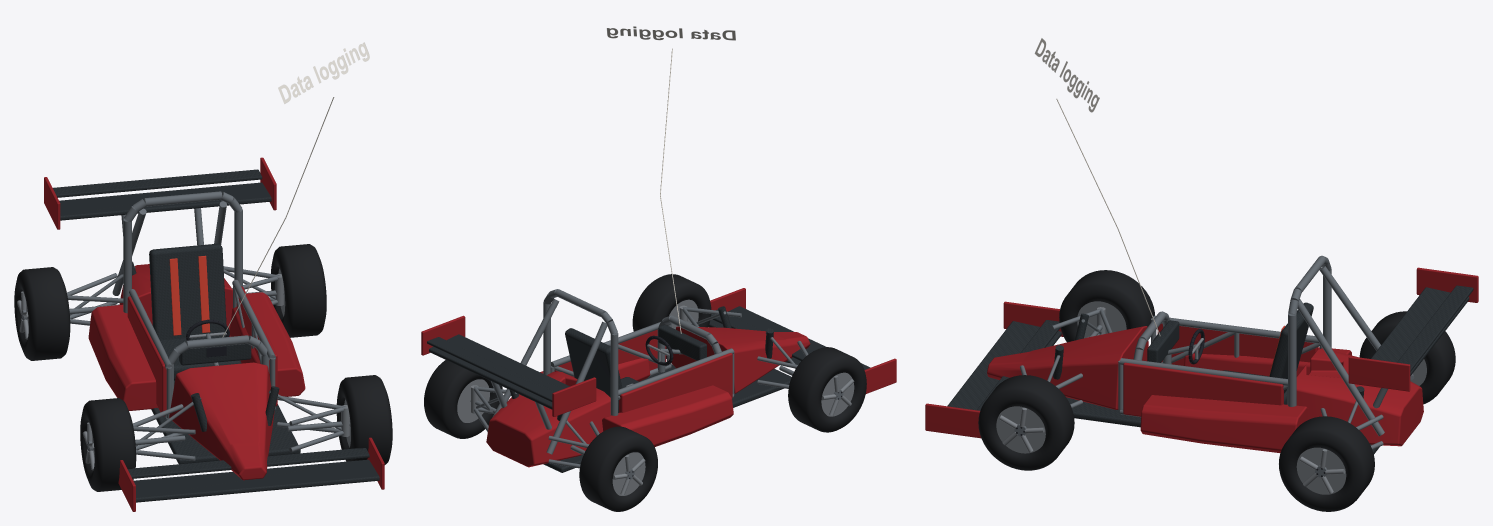
File: station-formula-sae.glb
3 renders of one model, left to right at view 1: azimuth 30°, elevation 25°; view 2: azimuth 150°, elevation 25°; view 3: azimuth 270°, elevation 25°, orthographic. The views are drawn at different scales.
Parts seen in each view (by area): view 1: Reorder_FormulaSAE_FSAE_Nose, Reorder_FormulaSAE_FSAE_SeatBack, Reorder_FormulaSAE_FSAE_WingMain, Reorder_FormulaSAE_FSAE_Sidepod_-1, Reorder_FormulaSAE_Left_Rear_SlickTire, Reorder_FormulaSAE_Right_Rear_SlickTire, Reorder_FormulaSAE_Left_Front_SlickTire, Reorder_FormulaSAE_Right_Front_SlickTire, Reorder_FormulaSAE_FSAE_WingMain.001, Reorder_FormulaSAE_FSAE_Sidepod_1, Reorder_FormulaSAE_FSAE_WingFlap.001, Reorder_FormulaSAE_FSAE_WingFlap (+20 smaller); view 2: Reorder_FormulaSAE_FSAE_RearBody, Reorder_FormulaSAE_FSAE_Sidepod_-1, Reorder_FormulaSAE_Left_Rear_SlickTire, Reorder_FormulaSAE_Left_Front_SlickTire, Reorder_FormulaSAE_FSAE_Nose, Reorder_FormulaSAE_Right_Rear_SlickTire, Reorder_FormulaSAE_FSAE_CockpitSide_-1, Reorder_FormulaSAE_Right_Front_SlickTire, Reorder_FormulaSAE_FSAE_WingMain.001, Reorder_FormulaSAE_FSAE_SeatBack, Reorder_FormulaSAE_FSAE_WingFlap.001, Reorder_FormulaSAE_FSAE_Undertray (+16 smaller); view 3: Reorder_FormulaSAE_FSAE_Sidepod_1, Reorder_FormulaSAE_FSAE_Nose, Reorder_FormulaSAE_FSAE_RearBody, Reorder_FormulaSAE_Right_Front_SlickTire, Reorder_FormulaSAE_Right_Rear_SlickTire, Reorder_FormulaSAE_FSAE_CockpitSide_1, Reorder_FormulaSAE_Left_Front_SlickTire, Reorder_FormulaSAE_FSAE_WingMain, Reorder_FormulaSAE_FSAE_WingMain.001, Reorder_FormulaSAE_Left_Rear_SlickTire, Reorder_FormulaSAE_FSAE_CockpitSide_-1, Reorder_FormulaSAE_FSAE_WingEndplate.003 (+18 smaller).
Part boxes in pixels (left/top/right/bottom): Reorder_FormulaSAE_FSAE_Nose: left=169, top=362, right=274, bottom=480; Reorder_FormulaSAE_FSAE_SeatBack: left=149, top=243, right=226, bottom=340; Reorder_FormulaSAE_FSAE_WingMain: left=133, top=459, right=379, bottom=502; Reorder_FormulaSAE_FSAE_Sidepod_-1: left=88, top=304, right=157, bottom=410; Reorder_FormulaSAE_Left_Rear_SlickTire: left=14, top=267, right=70, bottom=360; Reorder_FormulaSAE_Right_Rear_SlickTire: left=271, top=244, right=326, bottom=337; Reorder_FormulaSAE_Left_Front_SlickTire: left=80, top=398, right=136, bottom=491; Reorder_FormulaSAE_Right_Front_SlickTire: left=336, top=375, right=392, bottom=464; Reorder_FormulaSAE_FSAE_WingMain.001: left=59, top=182, right=271, bottom=220; Reorder_FormulaSAE_FSAE_Sidepod_1: left=229, top=292, right=305, bottom=396; Reorder_FormulaSAE_FSAE_WingFlap.001: left=53, top=169, right=262, bottom=197; Reorder_FormulaSAE_FSAE_WingFlap: left=128, top=448, right=369, bottom=478; Reorder_FormulaSAE_FSAE_RearBody: left=486, top=371, right=610, bottom=467; Reorder_FormulaSAE_FSAE_Sidepod_-1: left=602, top=385, right=733, bottom=446; Reorder_FormulaSAE_Left_Rear_SlickTire: left=579, top=426, right=657, bottom=511; Reorder_FormulaSAE_Left_Front_SlickTire: left=788, top=347, right=866, bottom=432; Reorder_FormulaSAE_FSAE_Nose: left=671, top=326, right=810, bottom=393; Reorder_FormulaSAE_Right_Rear_SlickTire: left=424, top=360, right=502, bottom=438; Reorder_FormulaSAE_FSAE_CockpitSide_-1: left=619, top=353, right=732, bottom=412; Reorder_FormulaSAE_Right_Front_SlickTire: left=632, top=274, right=711, bottom=358; Reorder_FormulaSAE_FSAE_WingMain.001: left=429, top=334, right=569, bottom=409; Reorder_FormulaSAE_FSAE_SeatBack: left=565, top=328, right=622, bottom=412; Reorder_FormulaSAE_FSAE_WingFlap.001: left=427, top=337, right=555, bottom=401; Reorder_FormulaSAE_FSAE_Undertray: left=543, top=364, right=791, bottom=472; Reorder_FormulaSAE_FSAE_Sidepod_1: left=1140, top=395, right=1308, bottom=452; Reorder_FormulaSAE_FSAE_Nose: left=987, top=326, right=1148, bottom=409; Reorder_FormulaSAE_FSAE_RearBody: left=1296, top=348, right=1423, bottom=446; Reorder_FormulaSAE_Right_Front_SlickTire: left=978, top=375, right=1074, bottom=470; Reorder_FormulaSAE_Right_Rear_SlickTire: left=1279, top=416, right=1374, bottom=511; Reorder_FormulaSAE_FSAE_CockpitSide_1: left=1123, top=362, right=1283, bottom=416; Reorder_FormulaSAE_Left_Front_SlickTire: left=1059, top=270, right=1155, bottom=342; Reorder_FormulaSAE_FSAE_WingMain: left=947, top=321, right=1061, bottom=410; Reorder_FormulaSAE_FSAE_WingMain.001: left=1371, top=287, right=1469, bottom=375; Reorder_FormulaSAE_Left_Rear_SlickTire: left=1359, top=311, right=1455, bottom=404; Reorder_FormulaSAE_FSAE_CockpitSide_-1: left=1157, top=323, right=1318, bottom=365; Reorder_FormulaSAE_FSAE_WingEndplate.003: left=1348, top=356, right=1410, bottom=391.
Bounding box in the file's own units: 0.5229 × 0.5714 × 0.7092.
Materials: 10 (9 with a texture image).
